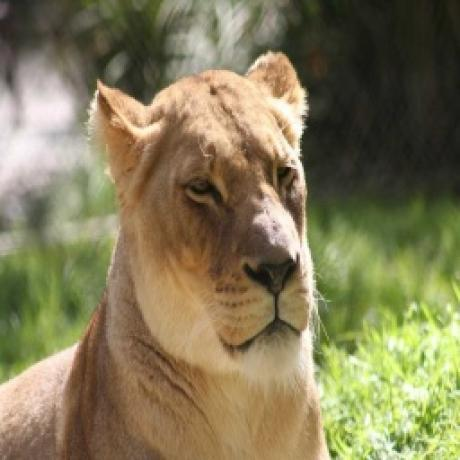Lion: (0, 45, 338, 460)
